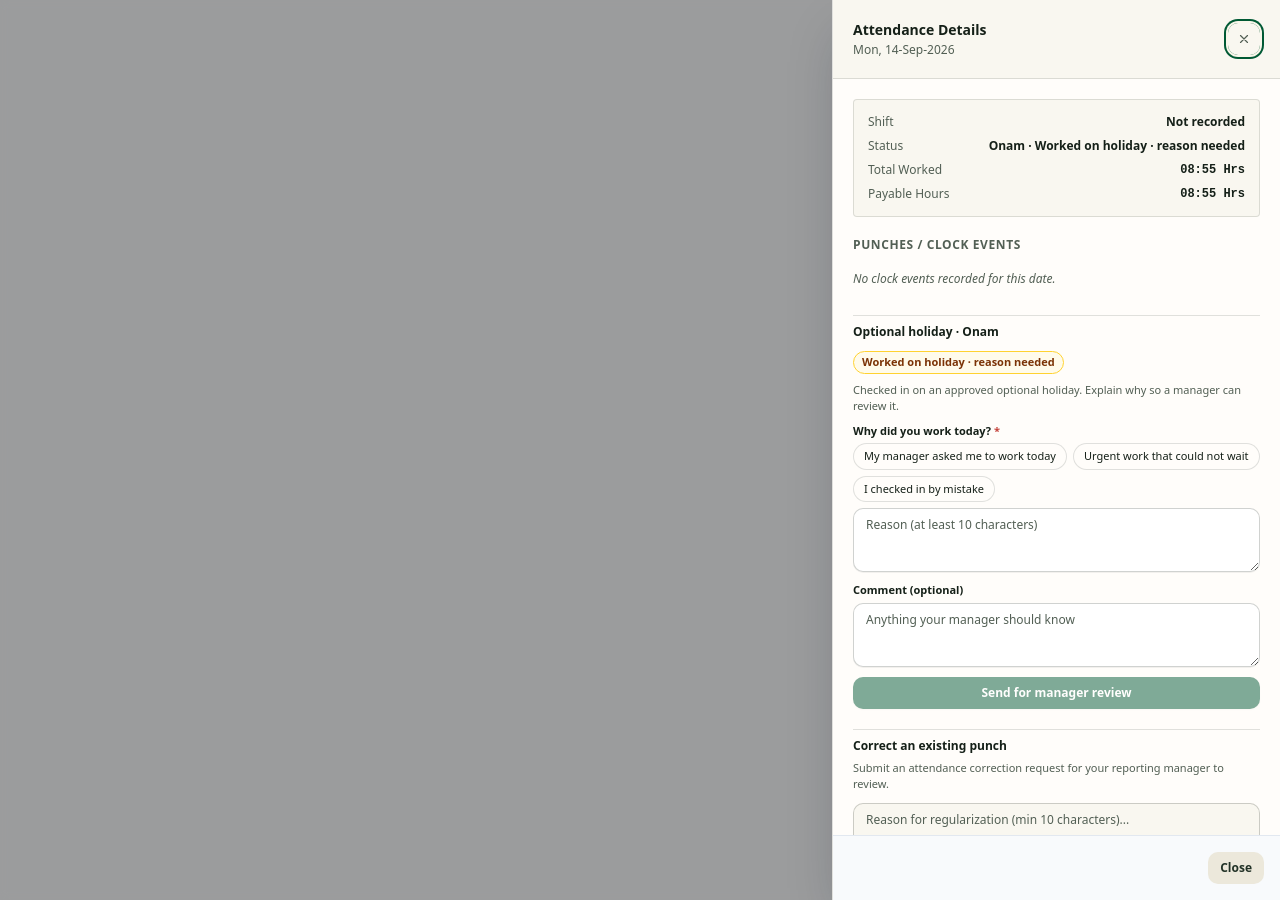
the employee’s view of the day › keeps the form and shows the API’s refusal
Type "Covering for a colleague" into the text box labelled "Why did you work today? *" at (1056,540), box [853,508,1260,572]
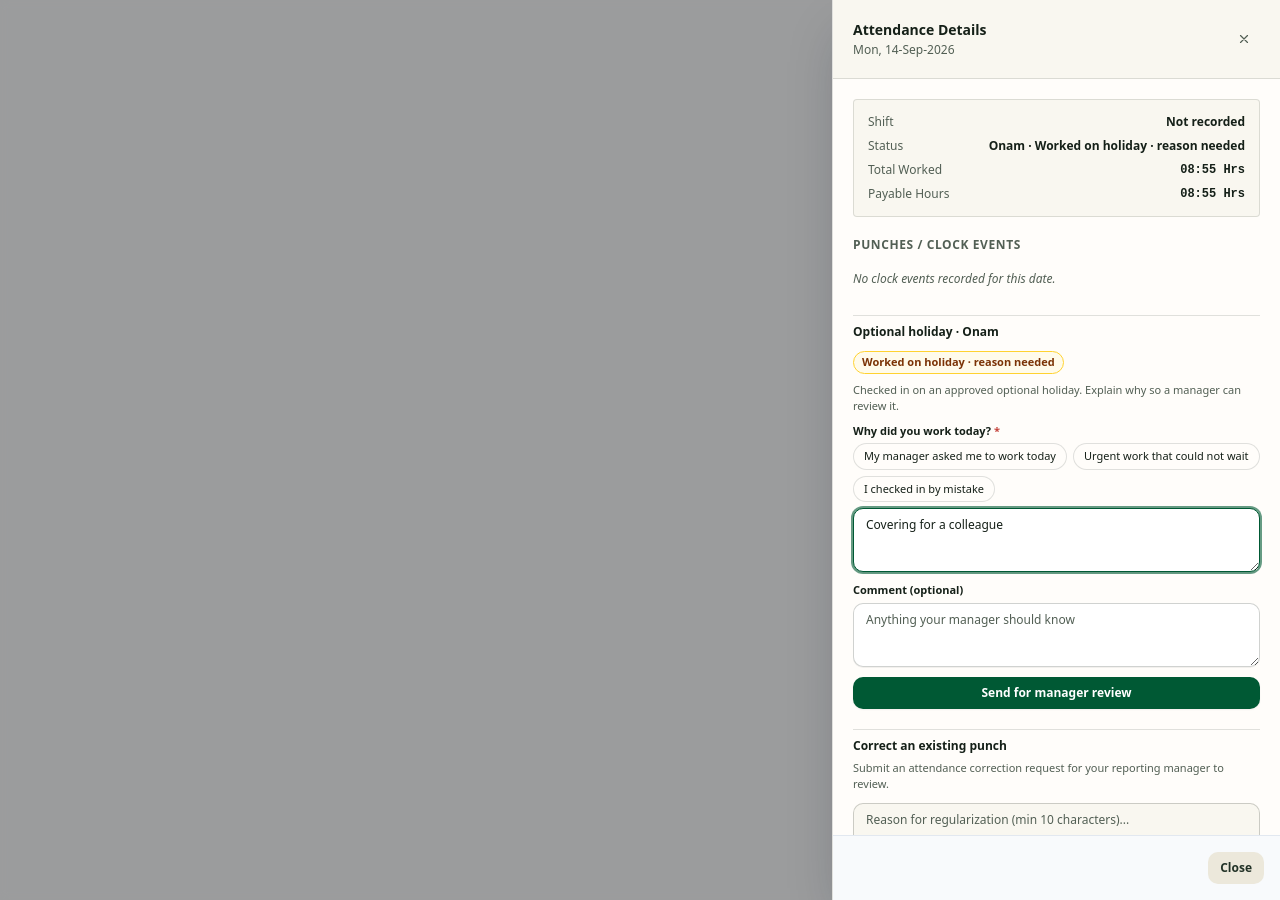
Click the button "Send for manager review" at (1056,692), box [853,676,1260,708]
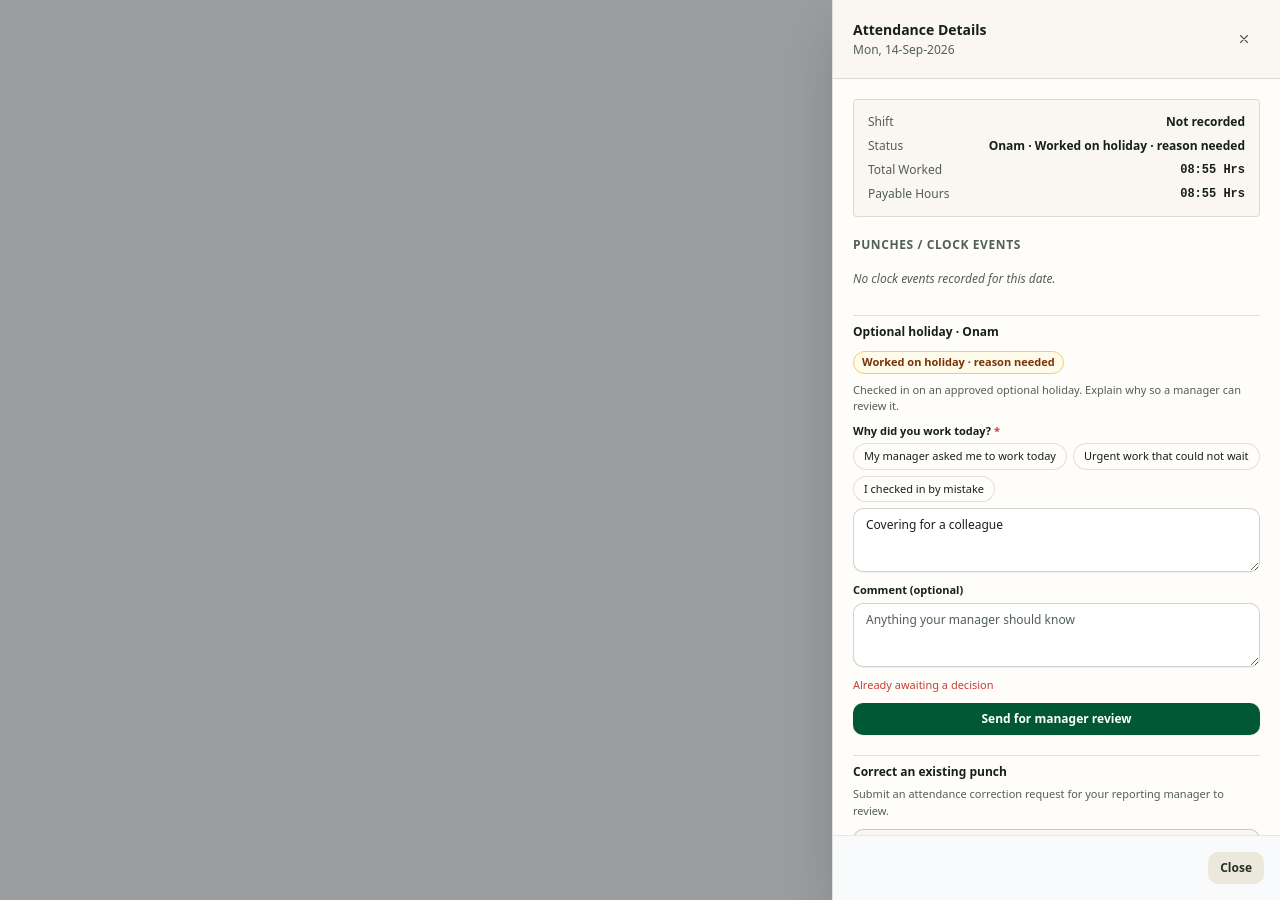
expect the message reads "Already awaiting a decision": met, box [853,676,994,692]
